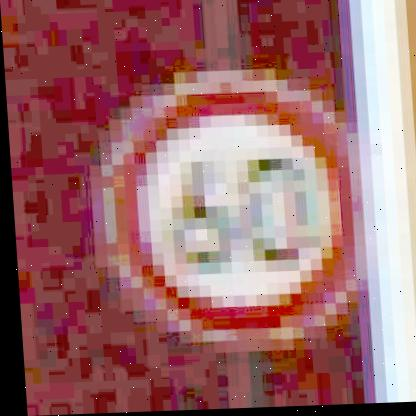Speed Limit -60-: (83, 68, 372, 352)
